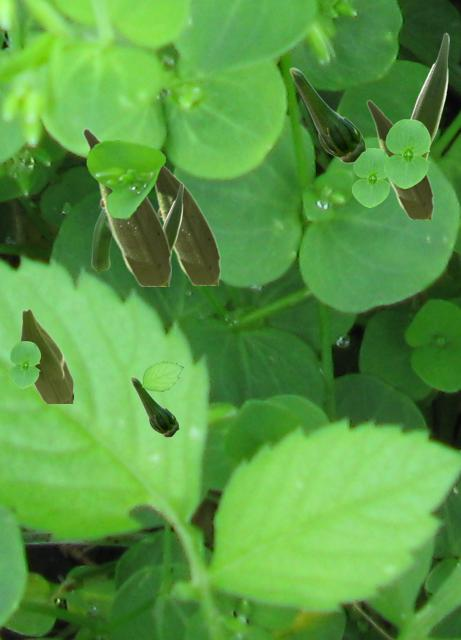okra: (82, 127, 170, 285), (366, 99, 432, 218), (154, 166, 219, 284), (289, 67, 365, 162), (19, 308, 72, 402), (410, 32, 448, 158), (130, 376, 178, 436), (163, 182, 182, 256), (91, 211, 112, 269)
